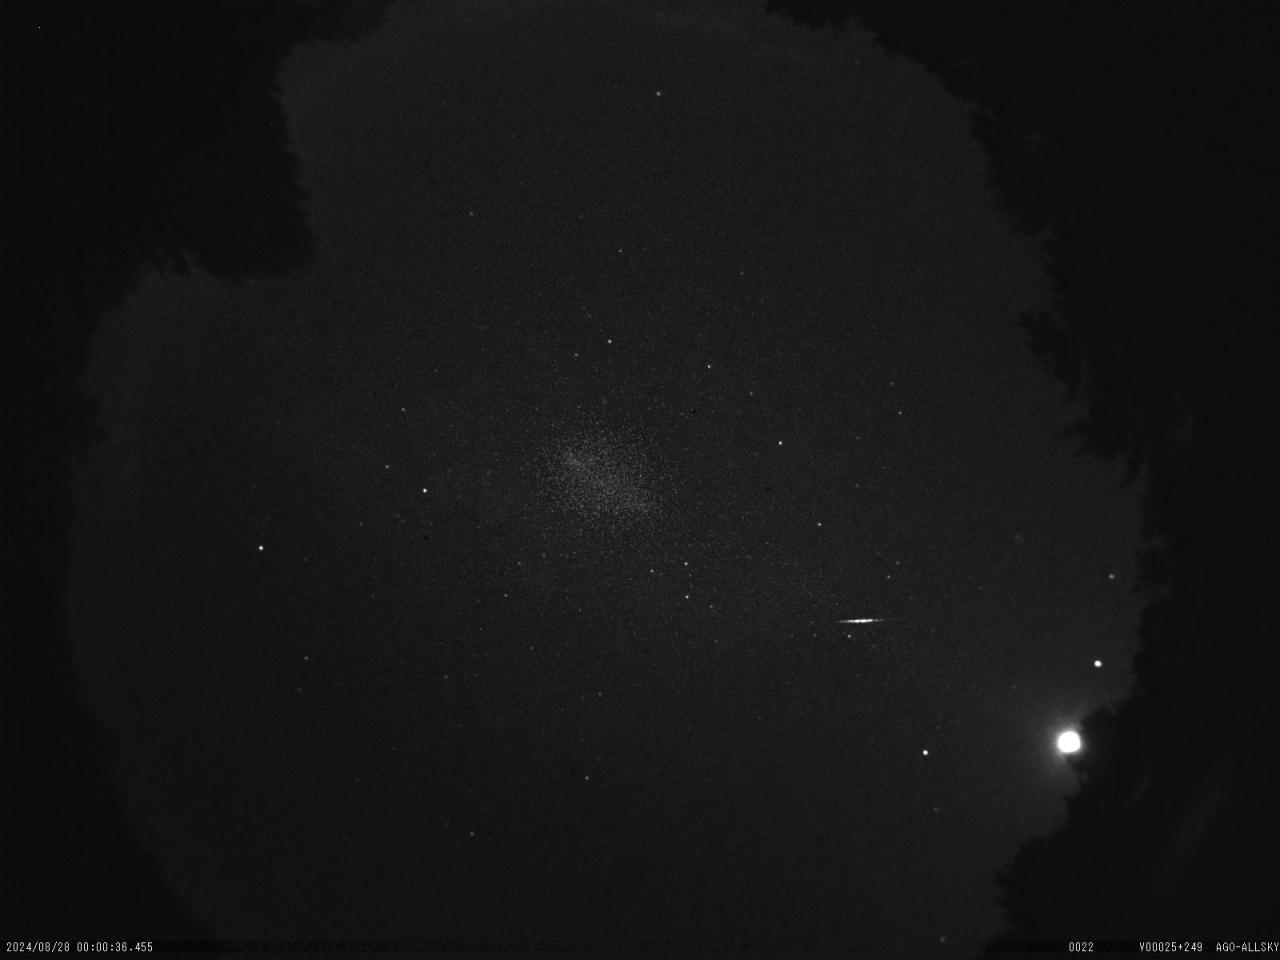Meteor: (838, 615, 891, 625)
